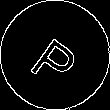P_NE: (25, 23, 85, 87)
